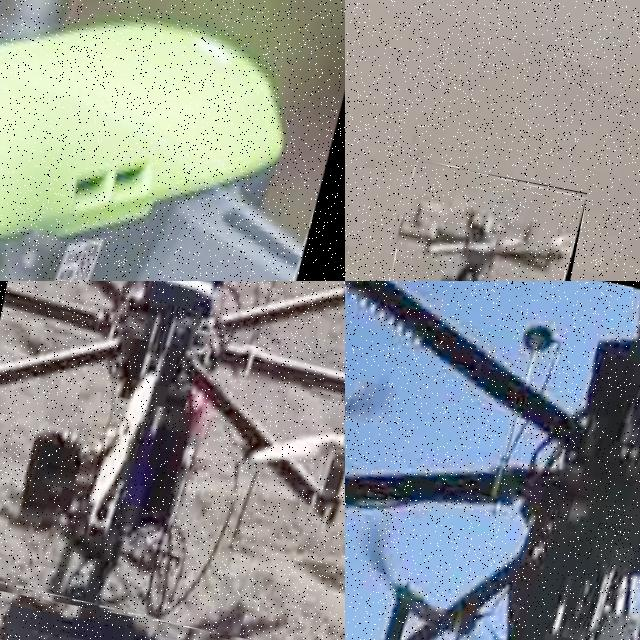drone: (0, 281, 345, 640), (345, 281, 640, 640), (0, 0, 345, 281), (384, 159, 587, 281)
